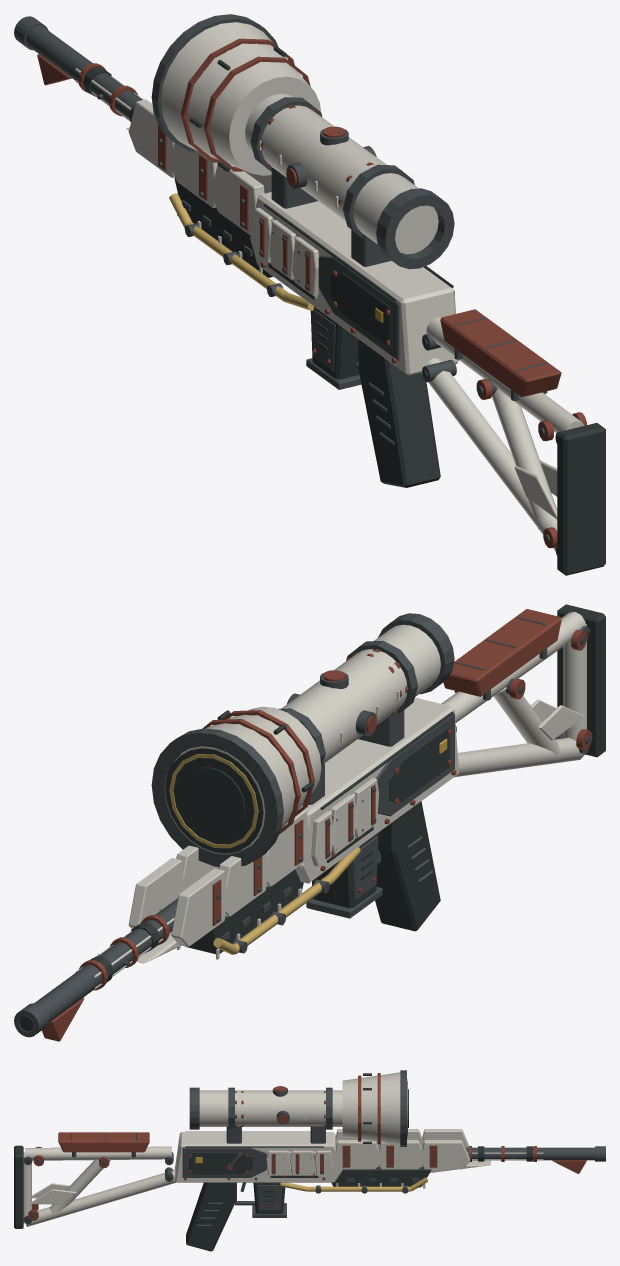
Rendered from sniper_4.glb.
The picture shows the model from 3 angles, top to bottom: view 1: azimuth 30°, elevation 25°; view 2: azimuth 150°, elevation 25°; view 3: azimuth 270°, elevation 25°; orthographic projection. The views are drawn at different scales.
Visible parts, largest first — view 1: Weapon_sniper_v1; view 2: Weapon_sniper_v1; view 3: Weapon_sniper_v1.
Boxes of the visible parts, <box> form: Weapon_sniper_v1: <box>14,14,605,575</box>; Weapon_sniper_v1: <box>14,604,605,1041</box>; Weapon_sniper_v1: <box>14,1070,605,1251</box>.
Size of the model in its own units: 0.142 by 0.3531 by 1.09.
